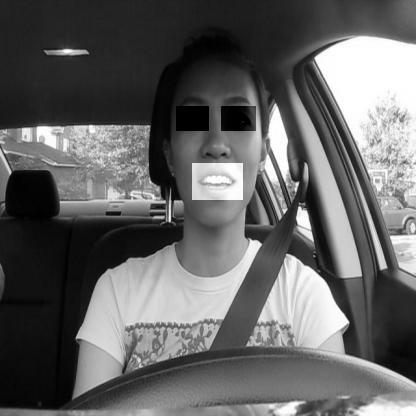seatbelt: (132, 15, 294, 351)
